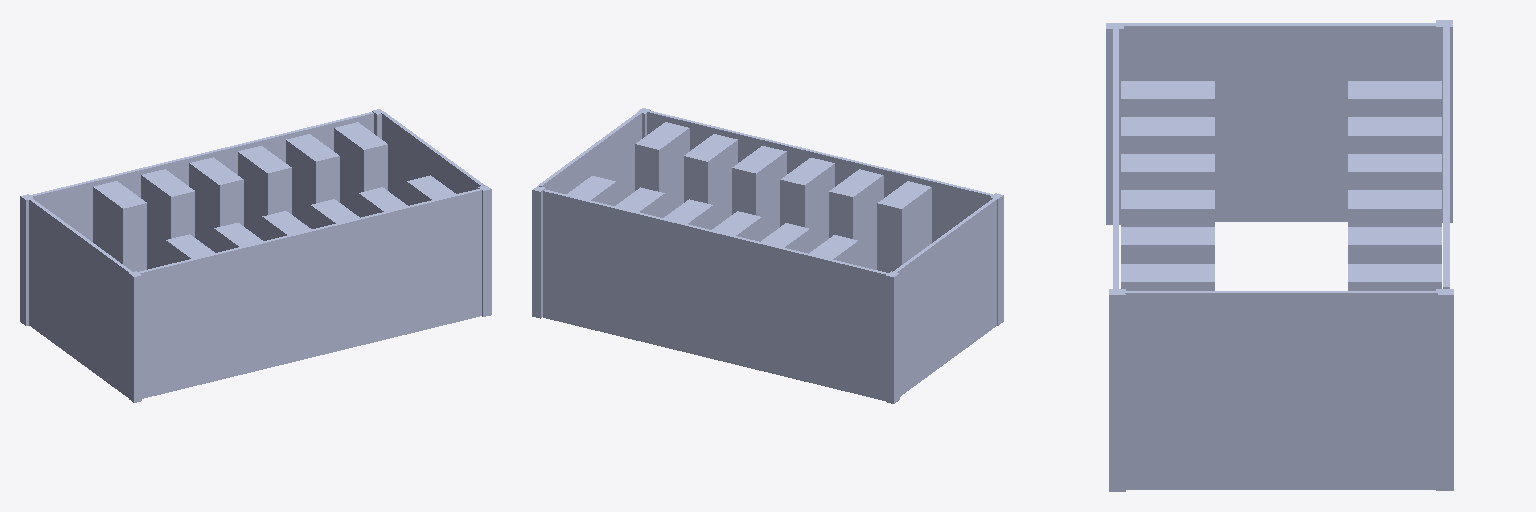
URDF robot description (Greenhouse.SLDASM):
<?xml version="1.0" encoding="utf-8"?>
<!-- This URDF was automatically created by SolidWorks to URDF Exporter! Originally created by [author] ([email redacted]) 
     Commit Version: 1.6.0-4-g7f85cfe  Build Version: 1.6.7995.38578
     For more information, please see http://wiki.ros.org/sw_urdf_exporter -->
<robot
  name="Greenhouse.SLDASM">
  <link
    name="base_link">
    <inertial>
      <origin
        xyz="5.339 -9.7648 -0.70978"
        rpy="0 0 0" />
      <mass
        value="159760" />
      <inertia
        ixx="408190"
        ixy="1.3448E-10"
        ixz="-6.9065E-12"
        iyy="680790"
        iyz="-4.6466E-12"
        izz="464150" />
    </inertial>
    <visual>
      <origin
        xyz="0 0 0"
        rpy="0 0 0" />
      <geometry>
        <mesh
          filename="package://Greenhouse.SLDASM/meshes/base_link.STL" />
      </geometry>
      <material
        name="1">
        <color
          rgba="0.79216 0.81961 0.93333 1" />
      </material>
    </visual>
    <collision>
      <origin
        xyz="0 0 0"
        rpy="0 0 0" />
      <geometry>
        <mesh
          filename="package://Greenhouse.SLDASM/meshes/base_link.STL" />
      </geometry>
    </collision>
  </link>
</robot>

--- Facts derived from the render (not from the file) ---
The picture shows the robot from 3 angles, left to right: view 1: azimuth 30°, elevation 25°; view 2: azimuth 150°, elevation 25°; view 3: azimuth 270°, elevation 25°; orthographic projection.
Model Greenhouse.SLDASM with 1 links and 0 joints (none), rooted at base_link, posed all joints at 0.
Visible links, largest first — view 1: base_link; view 2: base_link; view 3: base_link.
Boxes of the visible links, x1,y1,x2,y2 form: base_link: (20,109,491,402); base_link: (532,108,1003,403); base_link: (1106,20,1453,491).
Bounding box of the posed robot: 14.96 × 8.01 × 5.03 m (x, y, z).
1 mesh visuals loaded from 1 distinct referenced files (1 binary STL).